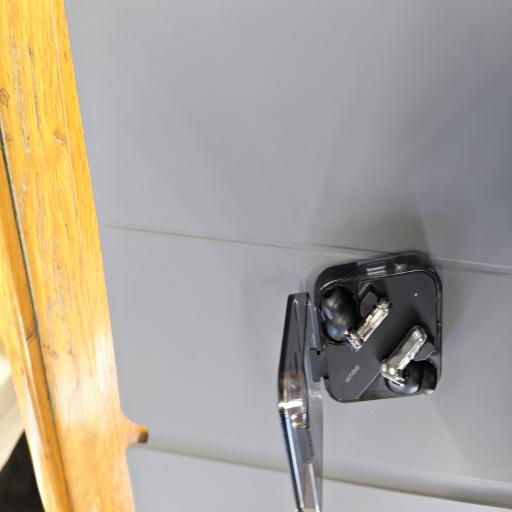CASTI: (270, 249, 448, 512)
